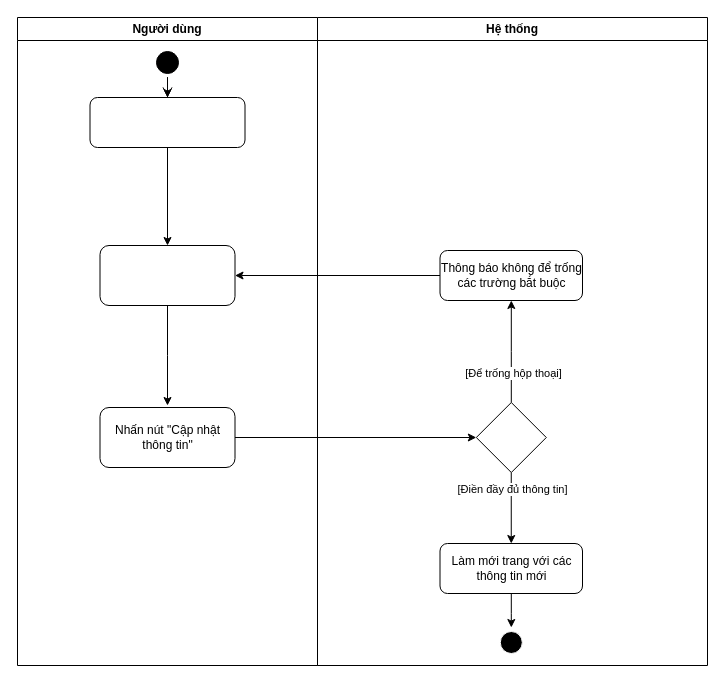
Image size: 725x683. Some labels were removed from this diagram. The centre of each missing label's shape, as x and y in pixels:
Nhấn vào biểu tượng người dùng và chọn "Chào [tên người dùng]": (167,122)
Điền các thông tin cá nhân muốn chỉnh sửa: (167,275)
